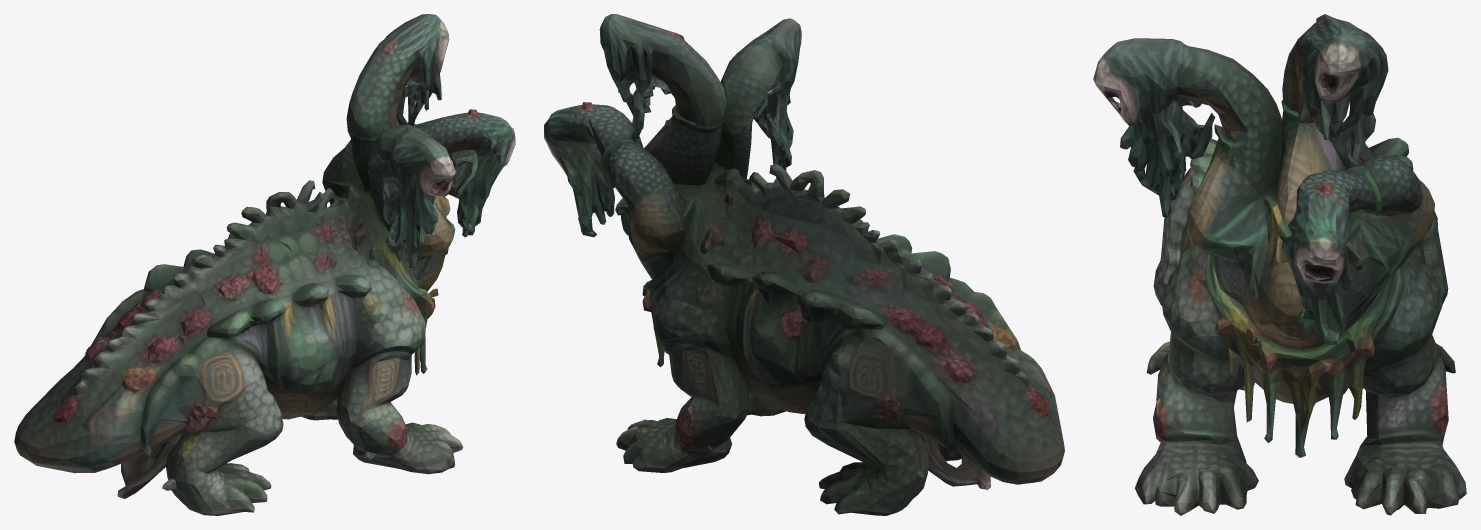
Rendered from mirequeen.glb.
3 renders of one model, left to right at view 1: azimuth 30°, elevation 25°; view 2: azimuth 150°, elevation 25°; view 3: azimuth 270°, elevation 25°, orthographic. The views are drawn at different scales.
Visible parts, largest first — view 1: world; view 2: world; view 3: world.
Part boxes in pixels (x1,y1,x2,y2): world: [14, 14, 515, 515]; world: [544, 14, 1064, 515]; world: [1093, 14, 1466, 515].
Bounding box in the file's own units: 0.9935 × 0.7468 × 0.497.
1 material, 1 textured.
